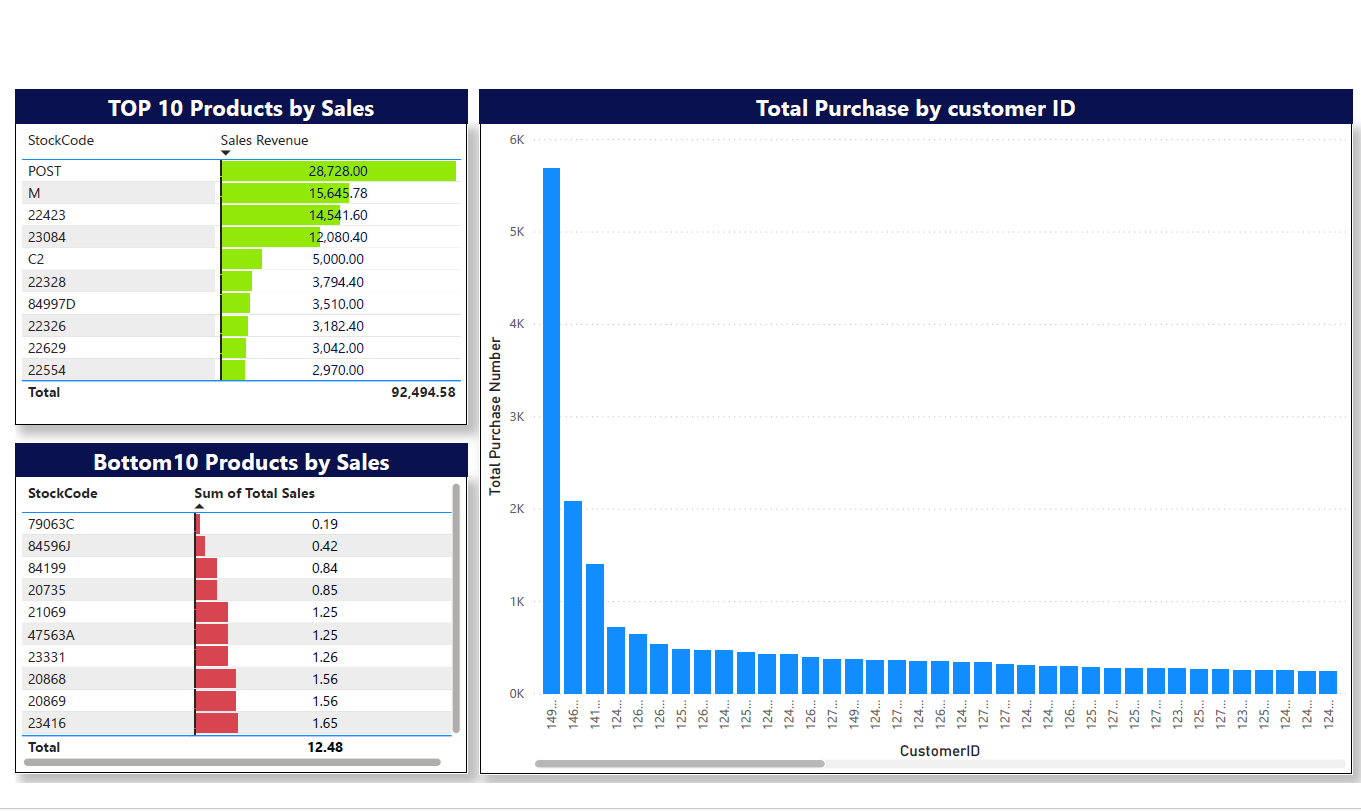

What the dashboard file says about the page in this screenshot:
{"tool":"powerbi","page":{"name":"Top 10 Product Analysis","canvas":[1280,720],"ordinal":3},"visuals":[{"type":"tableEx","fields":{"Values":["Product_ Analysis.StockCode","Sum(Product_ Analysis.Total Revenue)"]},"box":[0,94.2,429.2,286.1],"z":0},{"type":"tableEx","fields":{"Values":["Bottom 10 Products_product_Analysis.StockCode","Sum(Bottom 10 Products_product_Analysis.Total Sales)"]},"box":[0,428.8,428.8,282.5],"z":1000},{"type":"shape","box":[0,62.4,429.2,31.8],"z":2000},{"type":"shape","box":[0,397.5,428.8,31.2],"z":3000},{"type":"columnChart","title":"Total Purchase by CustomerID","fields":{"Category":["Purchase_Count.CustomerID"],"Y":["Sum(Purchase_Count.Total Purchase Number)"]},"box":[441.4,94.2,827.9,617.5],"z":4000},{"type":"shape","box":[441.4,62.4,827.9,31.8],"z":5000}]}

Visuals, with their boxes in screenshot pixels (x1, y1, x2, y2):
tableEx - Product_ Analysis.StockCode x Sum(Product_ Analysis.Total Revenue): Rect(11, 120, 461, 420)
tableEx - Bottom 10 Products_product_Analysis.StockCode x Sum(Bottom 10 Products_product_Analysis.Total Sales): Rect(11, 471, 460, 767)
shape: Rect(11, 87, 461, 120)
shape: Rect(11, 438, 460, 471)
"Total Purchase by CustomerID" columnChart: Rect(473, 120, 1342, 768)
shape: Rect(473, 87, 1342, 120)
